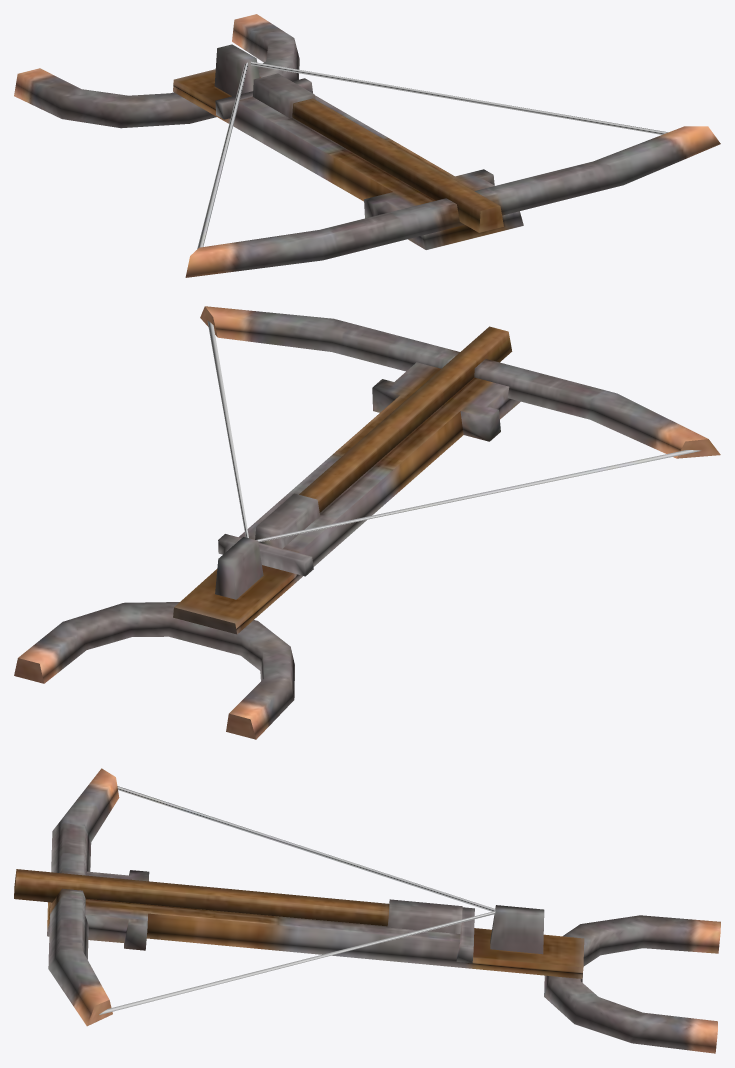
File: weapon-copperweapons.glb
3 views of the same model, one above another, from view 1: azimuth 30°, elevation 25°; view 2: azimuth 150°, elevation 25°; view 3: azimuth 270°, elevation 25° (orthographic). The views are drawn at different scales.
Bounding box in the file's own units: 0.9437 × 0.2104 × 1.12.
1 material, 1 textured.
